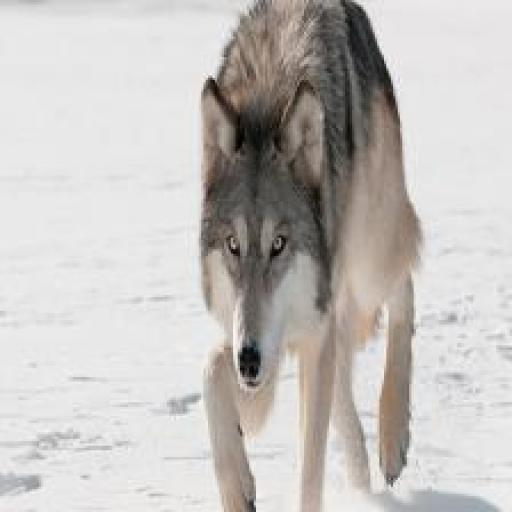wolf: (185, 0, 432, 512)
